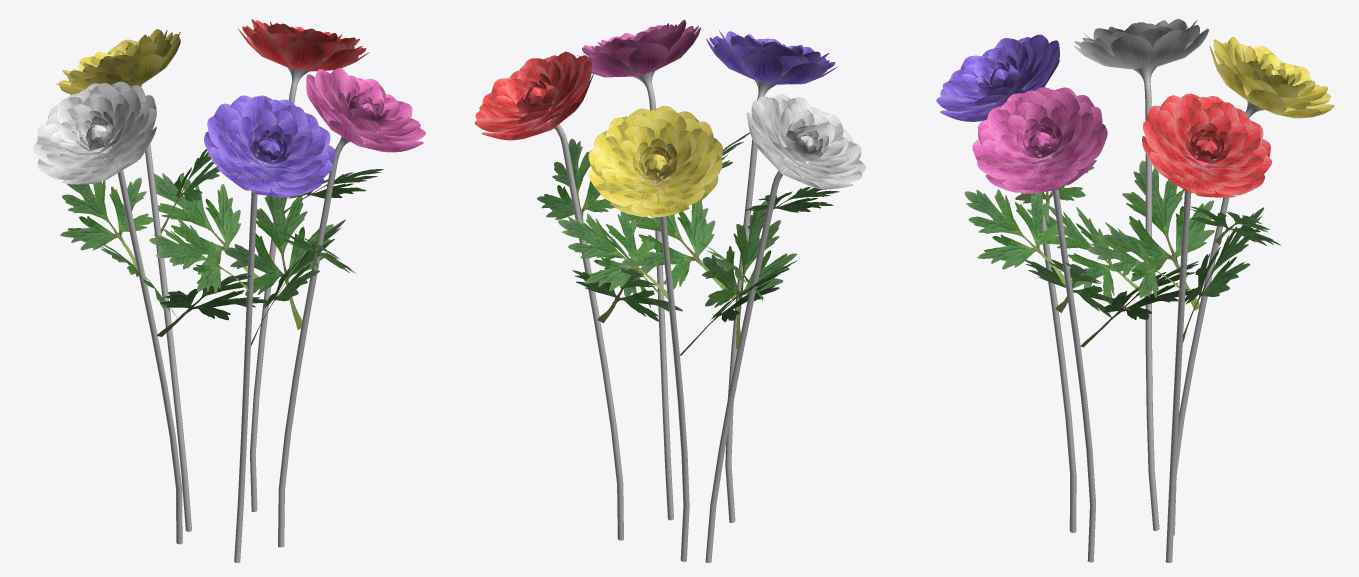
Rendered from ranunculus_1_2.fbx.
3 views of the same model, side by side, from view 1: azimuth 30°, elevation 25°; view 2: azimuth 150°, elevation 25°; view 3: azimuth 270°, elevation 25° (orthographic). The views are drawn at different scales.
Visible parts, largest first — view 1: Cylinder.004, Cylinder, Cylinder.001, Cylinder.002, Cylinder.003; view 2: Cylinder.003, Cylinder.004, Cylinder.002, Cylinder, Cylinder.001; view 3: Cylinder.001, Cylinder.002, Cylinder.003, Cylinder, Cylinder.004.
Boxes of the visible parts, x1,y1,x2,y2 form: Cylinder.004: (33,81,269,544); Cylinder: (149,95,345,562); Cylinder.001: (224,68,425,547); Cylinder.002: (154,19,383,512); Cylinder.003: (55,29,219,531); Cylinder.003: (558,106,796,561); Cylinder.004: (696,94,865,562); Cylinder.002: (475,51,682,540); Cylinder: (621,30,839,522); Cylinder.001: (576,19,749,520); Cylinder.001: (964,87,1198,562); Cylinder.002: (1087,93,1271,562); Cylinder.003: (1103,37,1334,535); Cylinder: (936,34,1130,532); Cylinder.004: (1027,19,1208,530).
Bounding box in the file's own units: 1336 × 1688 × 1311.
